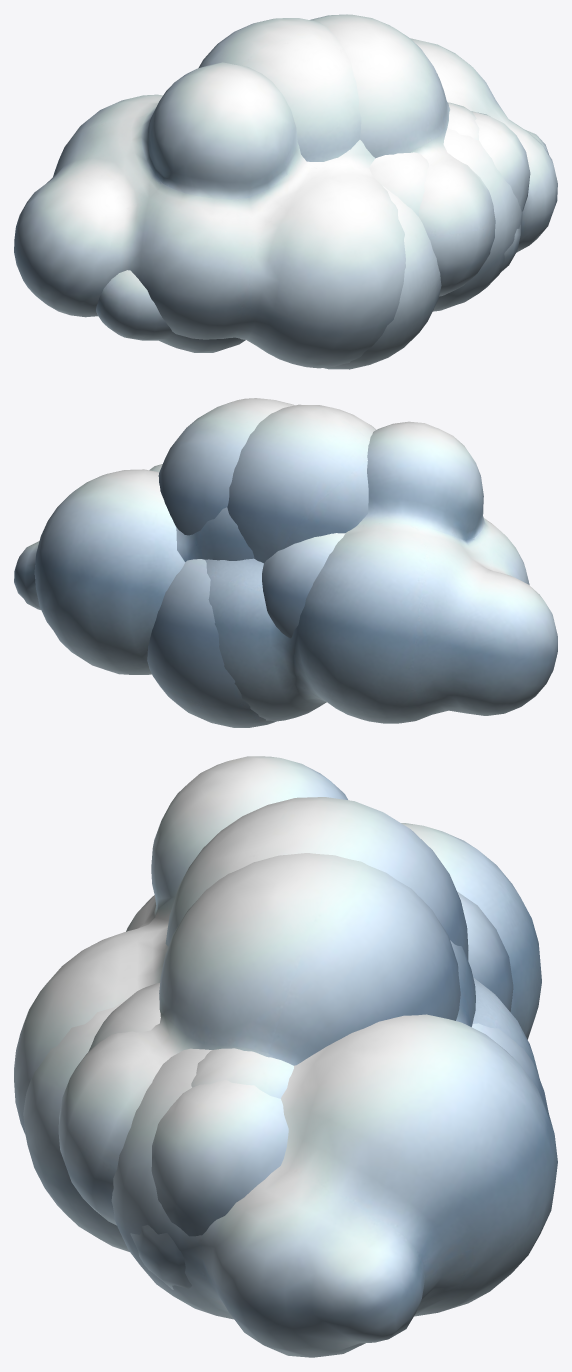
Rendered from Cloud.glb.
3 renders of one model, top to bottom at view 1: azimuth 30°, elevation 25°; view 2: azimuth 150°, elevation 25°; view 3: azimuth 270°, elevation 25°, orthographic. The views are drawn at different scales.
Visible parts, largest first — view 1: Cloud_05, Cloud_03, Cloud_04, Cloud_02; view 2: Cloud_05, Cloud_04, Cloud_03, Cloud_02; view 3: Cloud_05, Cloud_03, Cloud_04, Cloud_02.
Boxes of the visible parts, x1,y1,x2,y2 form: Cloud_05: (14, 38, 557, 368); Cloud_03: (96, 14, 530, 352); Cloud_04: (198, 18, 441, 369); Cloud_02: (369, 102, 479, 216); Cloud_05: (14, 421, 557, 723); Cloud_04: (147, 404, 376, 727); Cloud_03: (149, 398, 345, 638); Cloud_02: (176, 507, 254, 561); Cloud_05: (14, 756, 557, 1357); Cloud_03: (58, 853, 513, 1289); Cloud_04: (23, 797, 548, 1251); Cloud_02: (88, 940, 475, 1098).
Bounding box in the file's own units: 8.65 × 4.64 × 5.3.
Materials: 1 (1 with a texture image).
